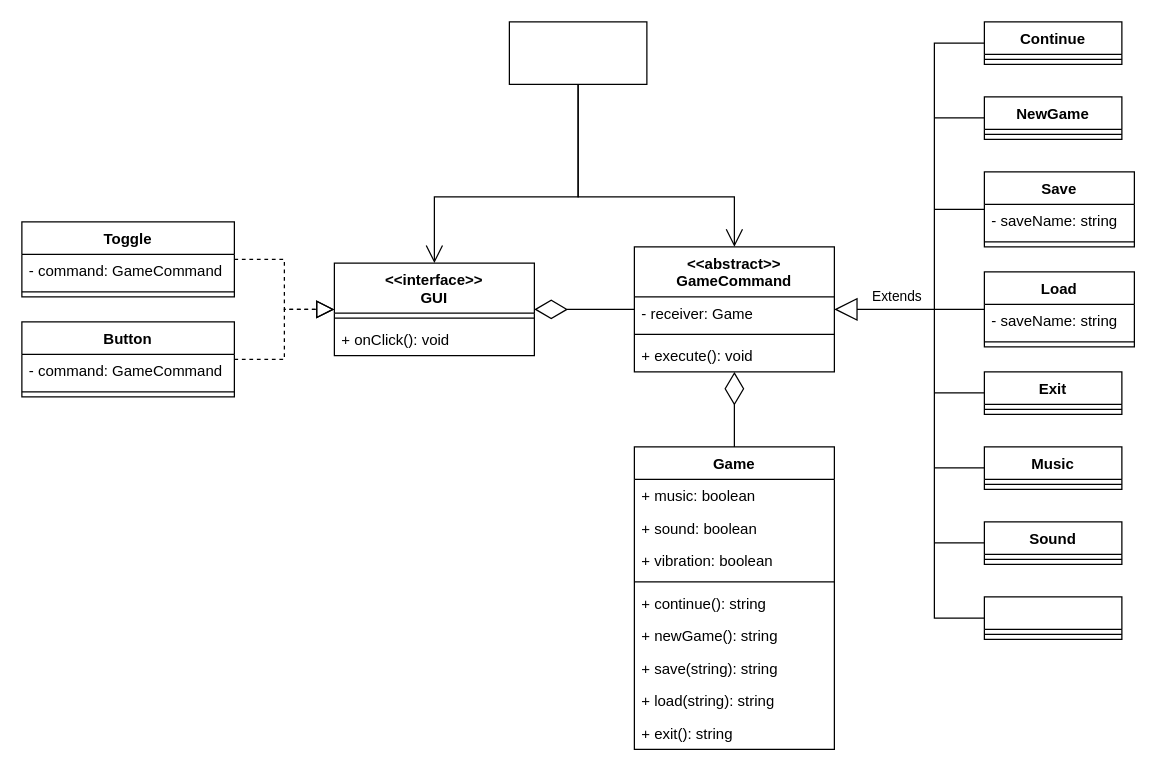
The diagram is 1156 pixels wide and 775 high, and some of its shapes have lost their labels. Here are the shapes that lost their labels. From the top down, the centre of each, then its label:
pixel 577 52: Client
pixel 1052 617: Vibration
